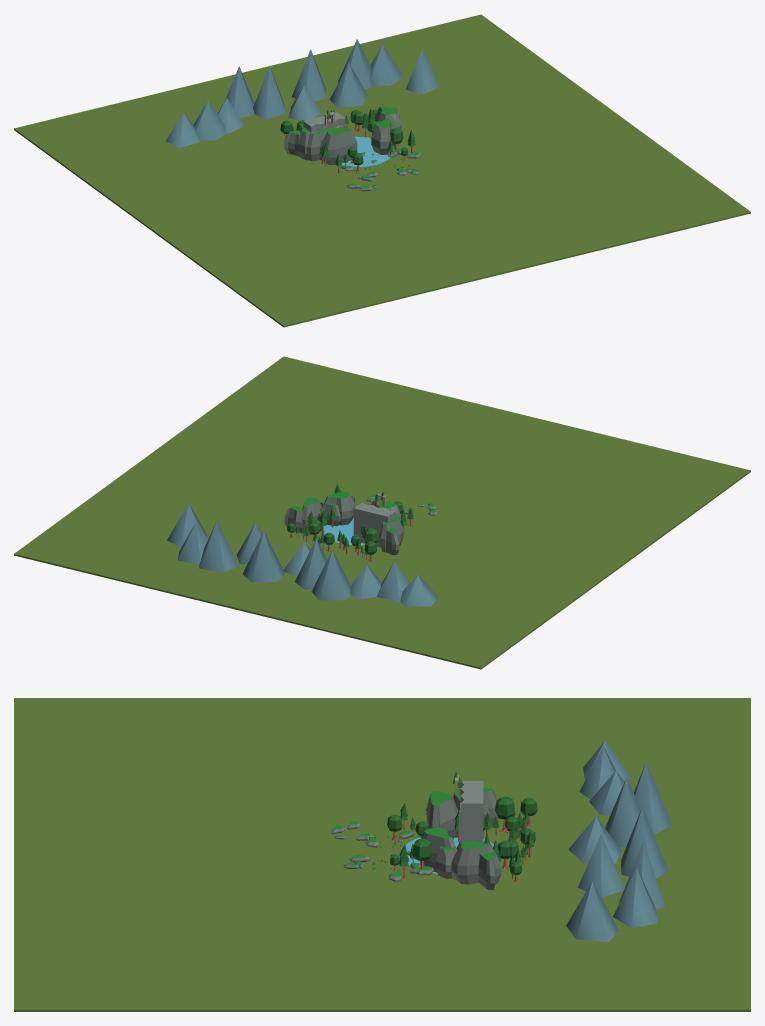
Rendered from valley.glb.
The picture shows the model from 3 angles, top to bottom: view 1: azimuth 30°, elevation 25°; view 2: azimuth 150°, elevation 25°; view 3: azimuth 270°, elevation 25°; orthographic projection. The views are drawn at different scales.
Parts seen in each view (by area): view 1: Landscape, Lake; view 2: Landscape; view 3: Landscape.
Boxes of the visible parts, x1,y1,x2,y2 form: Landscape: (14, 14, 750, 327); Lake: (341, 136, 390, 166); Landscape: (14, 356, 750, 669); Landscape: (14, 698, 750, 1011).
Size of the model in its own units: 120 by 12.04 by 120.
